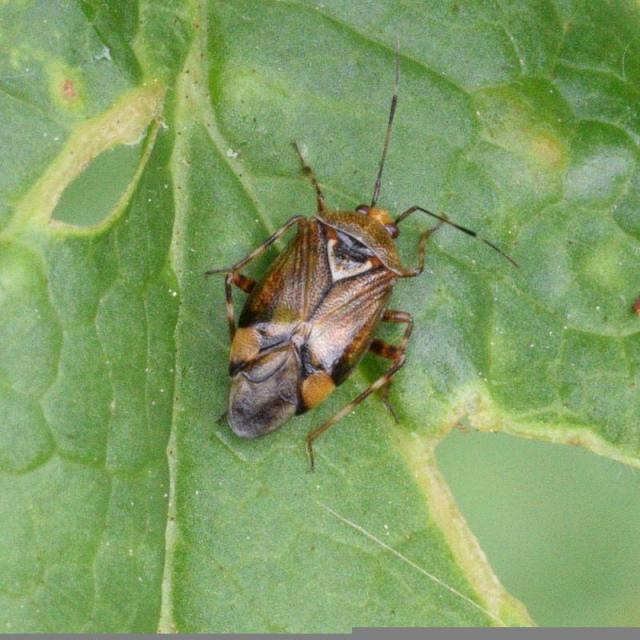Miridae-Adult-: (213, 66, 481, 466)
